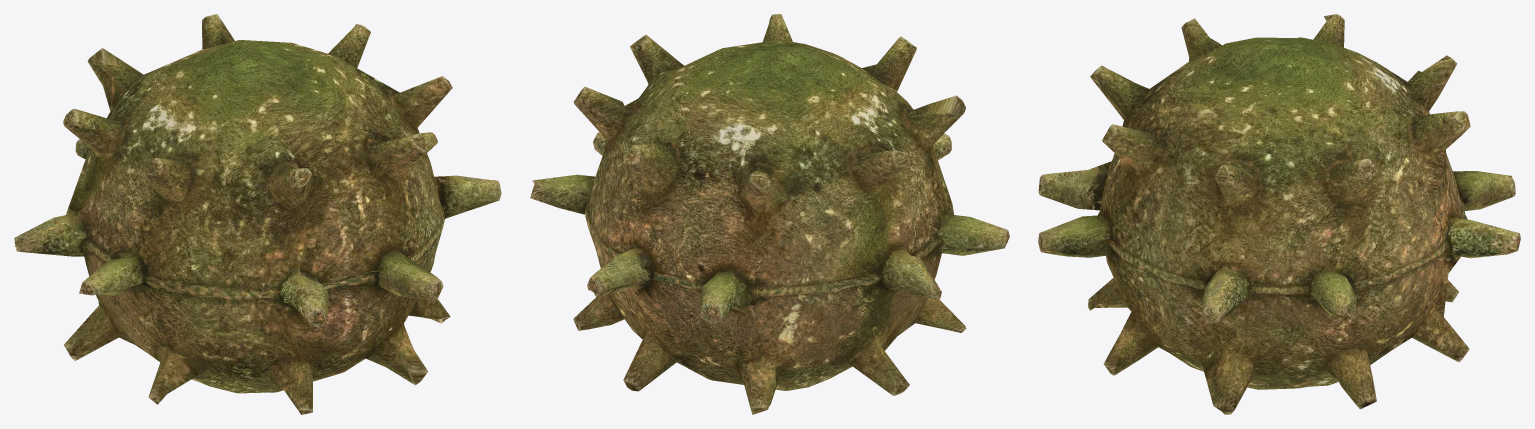
The model's file is reef-mine.glb.
3 views of the same model, side by side, from view 1: azimuth 30°, elevation 25°; view 2: azimuth 150°, elevation 25°; view 3: azimuth 270°, elevation 25° (orthographic).
Parts seen in each view (by area): view 1: Mesh_0; view 2: Mesh_0; view 3: Mesh_0.
Part boxes in pixels (<box>): Mesh_0: <box>14,14,501,414</box>; Mesh_0: <box>530,14,1009,414</box>; Mesh_0: <box>1038,14,1520,414</box>.
Bounding box in the file's own units: 13.48 × 10 × 13.51.
1 material, 1 textured.
